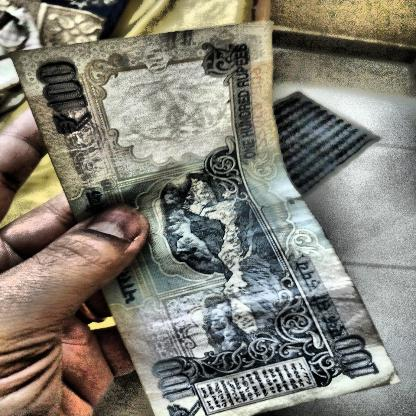Rs100: (24, 54, 110, 146), (140, 351, 211, 416), (319, 325, 391, 389)
